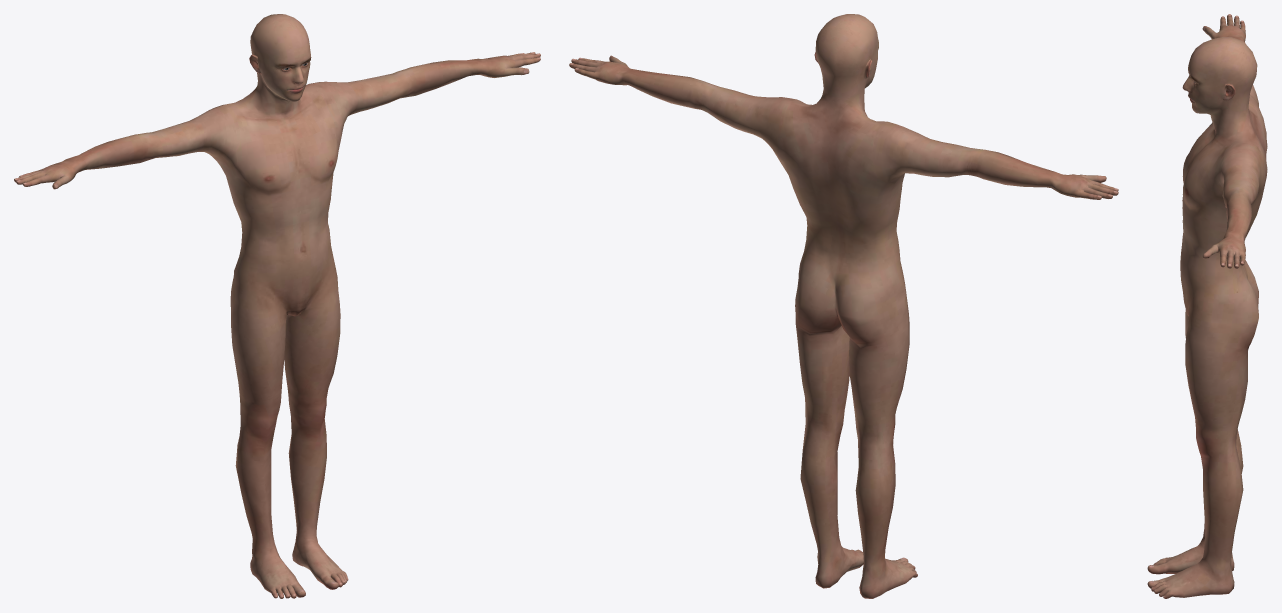
3 views of the same model, side by side, from view 1: azimuth 30°, elevation 25°; view 2: azimuth 150°, elevation 25°; view 3: azimuth 270°, elevation 25° (orthographic). The views are drawn at different scales.
Parts seen in each view (by area): view 1: CC_Base_Body; view 2: CC_Base_Body; view 3: CC_Base_Body.
Boxes of the visible parts, x1=… form: CC_Base_Body: x1=14, y1=14, x2=540, y2=598; CC_Base_Body: x1=569, y1=14, x2=1118, y2=598; CC_Base_Body: x1=1147, y1=14, x2=1267, y2=598.
Size of the model in its own units: 1.82 by 1.82 by 0.3659.
8 materials, 8 textured.
